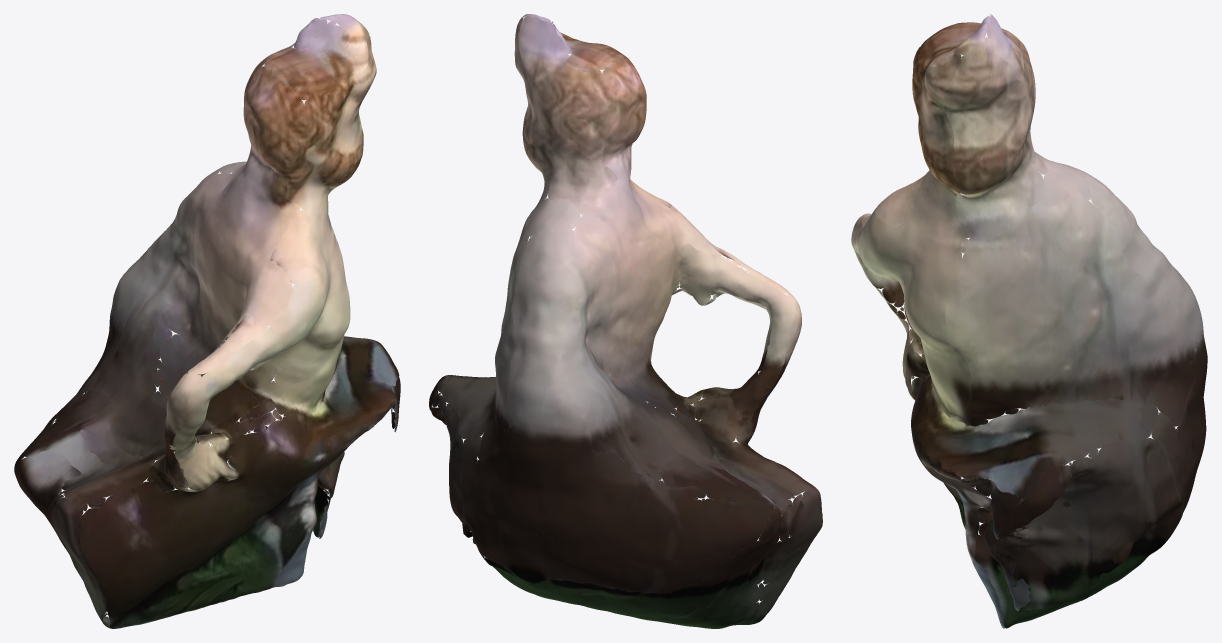
The model's file is centaur.glb.
The picture shows the model from 3 angles, left to right: view 1: azimuth 30°, elevation 25°; view 2: azimuth 150°, elevation 25°; view 3: azimuth 270°, elevation 25°; orthographic projection. The views are drawn at different scales.
Visible parts, largest first — view 1: centaur_Figurehead; view 2: centaur_Figurehead; view 3: centaur_Figurehead.
Part boxes in pixels (x1,y1,x2,y2): centaur_Figurehead: [14, 14, 400, 628]; centaur_Figurehead: [429, 14, 822, 628]; centaur_Figurehead: [851, 14, 1207, 628].
Bounding box in the file's own units: 1.34 × 2 × 1.03.
1 material, 1 textured.
